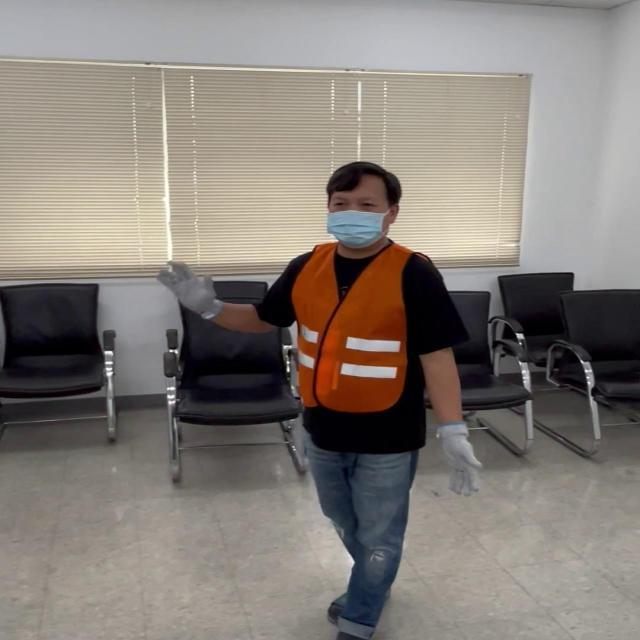gloved_hand: (431, 416, 492, 498), (157, 254, 225, 314)
